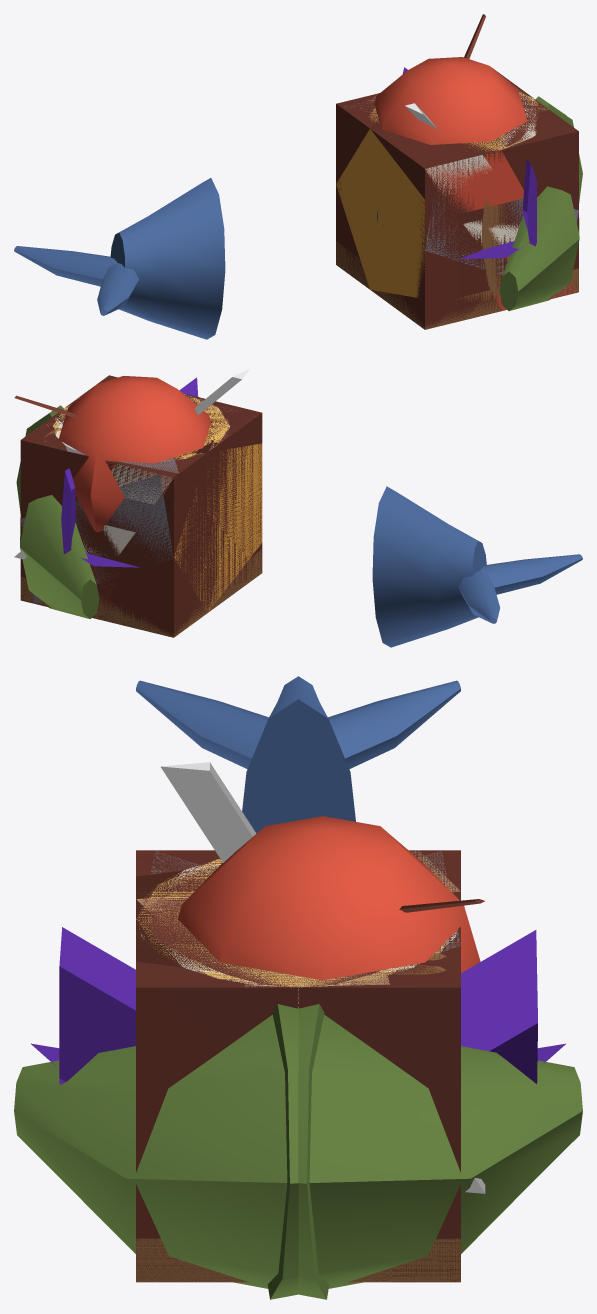
The model's file is vie-mer.glb.
The picture shows the model from 3 angles, top to bottom: view 1: azimuth 30°, elevation 25°; view 2: azimuth 150°, elevation 25°; view 3: azimuth 270°, elevation 25°; orthographic projection. The views are drawn at different scales.
Parts seen in each view (by area): view 1: marchand_corps, baleine_queue, epave_corps, peche_canne, tortue_nageoireg, raie_aileg, bouee_corps; view 2: marchand_corps, baleine_queue, peche_canne, epave_corps, tortue_nageoired, raie_ailed, bouee_corps, poisson_corps; view 3: tortue_nageoireg, tortue_nageoired, marchand_corps, peche_canne, baleine_queue, raie_aileg, raie_ailed, peche_corps, bouee_corps, epave_corps.
Part boxes in pixels (x1=…): marchand_corps: x1=336, y1=68, x2=578, y2=329; baleine_queue: x1=14, y1=178, x2=225, y2=339; epave_corps: x1=336, y1=82, x2=578, y2=297; peche_canne: x1=374, y1=14, x2=527, y2=144; tortue_nageoireg: x1=499, y1=96, x2=579, y2=310; raie_aileg: x1=459, y1=160, x2=536, y2=259; bouee_corps: x1=370, y1=92, x2=538, y2=150; marchand_corps: x1=20, y1=375, x2=262, y2=637; baleine_queue: x1=372, y1=486, x2=582, y2=647; peche_canne: x1=14, y1=368, x2=250, y2=559; epave_corps: x1=21, y1=411, x2=262, y2=610; tortue_nageoired: x1=20, y1=405, x2=99, y2=618; raie_ailed: x1=61, y1=468, x2=139, y2=567; bouee_corps: x1=53, y1=394, x2=229, y2=459; poisson_corps: x1=57, y1=409, x2=231, y2=473; tortue_nageoireg: x1=14, y1=1004, x2=329, y2=1299; tortue_nageoired: x1=267, y1=1004, x2=582, y2=1299; marchand_corps: x1=136, y1=850, x2=460, y2=1282; peche_canne: x1=160, y1=762, x2=485, y2=1193; baleine_queue: x1=136, y1=676, x2=460, y2=833; raie_aileg: x1=31, y1=927, x2=135, y2=1084; raie_ailed: x1=461, y1=930, x2=565, y2=1083; peche_corps: x1=136, y1=864, x2=416, y2=1008; bouee_corps: x1=136, y1=859, x2=445, y2=986; epave_corps: x1=136, y1=851, x2=460, y2=987.
Bounding box in the file's own units: 6.8 × 2.65 × 3.5.
